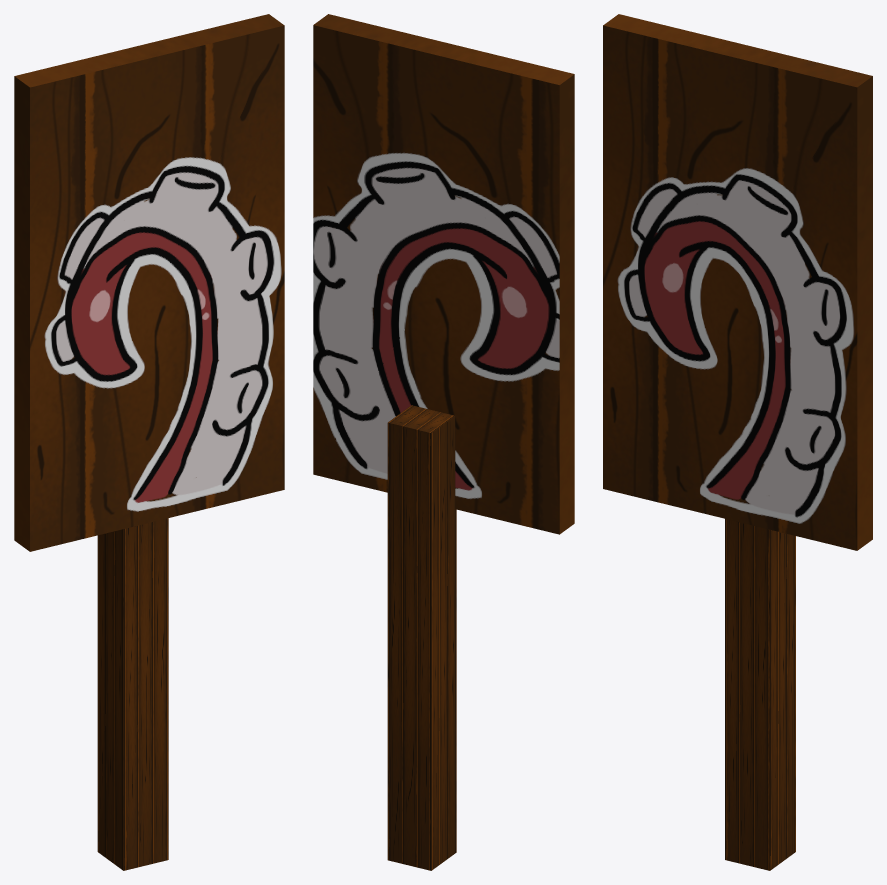
Rendered from Tentacle_Right_Idle_2.fbx.
3 views of the same model, side by side, from view 1: azimuth 30°, elevation 25°; view 2: azimuth 150°, elevation 25°; view 3: azimuth 330°, elevation 25° (orthographic). The views are drawn at different scales.
Parts seen in each view (by area): view 1: Octopus_Balk13; view 2: Octopus_Balk13; view 3: Octopus_Balk13.
Part boxes in pixels (x1,y1,x2,y2): Octopus_Balk13: (14, 14, 284, 870); Octopus_Balk13: (313, 14, 574, 870); Octopus_Balk13: (603, 14, 872, 870).
Size of the model in its own units: 15.82 by 48.69 by 4.34.
Materials: 2 (2 with a texture image).
